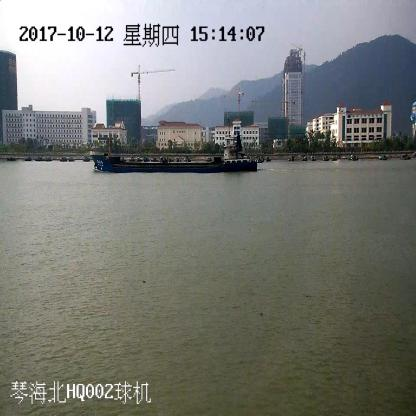Bulk Carrier: (91, 122, 257, 173)
